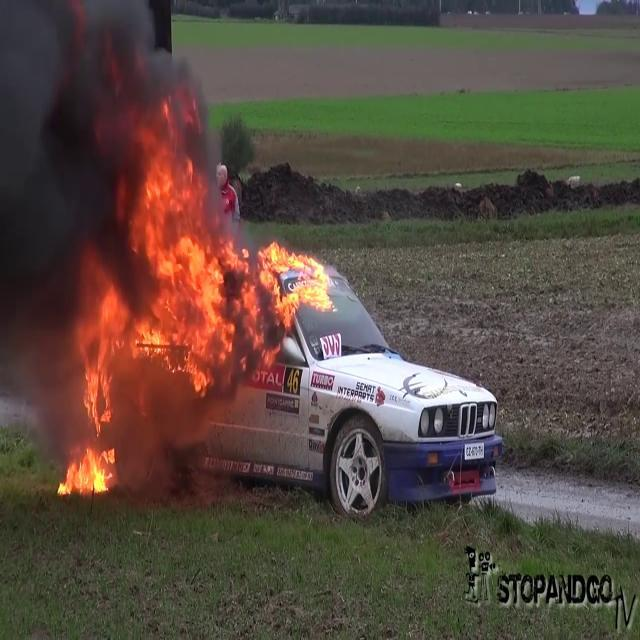Fire: (57, 145, 336, 498)
Smoke: (0, 2, 164, 324)
